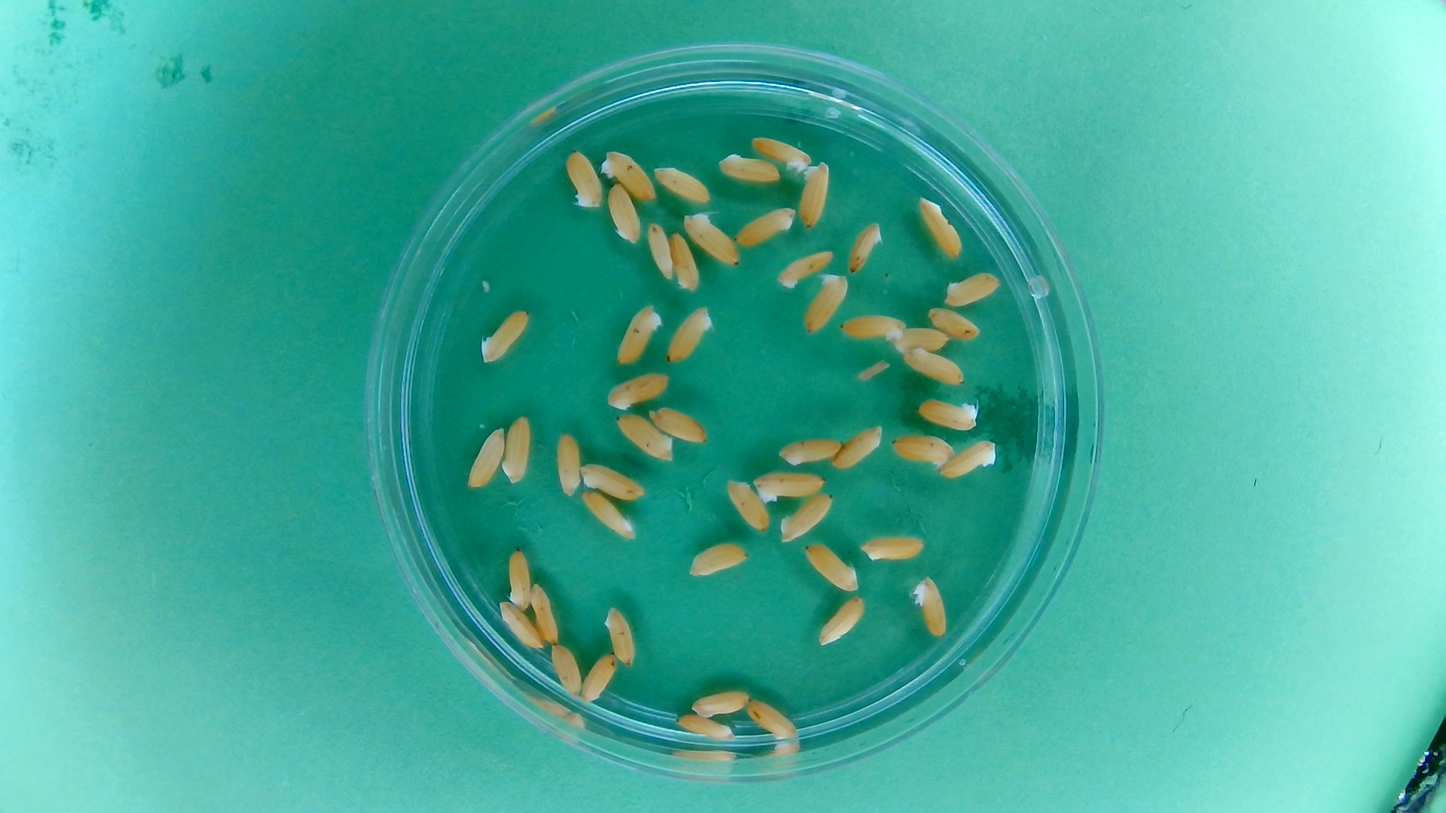no: (682, 209, 743, 269), (612, 410, 676, 465), (613, 300, 664, 369), (599, 147, 659, 203), (915, 195, 965, 262), (664, 303, 715, 367), (478, 306, 532, 366), (802, 539, 860, 594), (731, 204, 798, 251), (801, 270, 848, 335), (578, 488, 636, 540), (778, 492, 836, 544), (602, 370, 673, 412), (577, 460, 648, 502), (773, 246, 836, 292), (898, 346, 967, 388), (647, 402, 712, 446), (751, 468, 828, 504), (829, 422, 885, 471), (937, 438, 1000, 481), (464, 424, 505, 490), (651, 163, 712, 207), (724, 476, 770, 534), (818, 595, 868, 648), (603, 181, 643, 247), (686, 539, 750, 580), (496, 600, 547, 651), (911, 573, 950, 639), (914, 395, 981, 433), (563, 146, 602, 211), (941, 269, 1004, 309), (796, 160, 831, 231), (499, 412, 533, 485), (889, 431, 956, 468), (745, 696, 800, 741), (774, 434, 845, 468), (856, 532, 929, 565), (750, 133, 813, 171), (602, 603, 638, 669), (714, 151, 782, 185), (666, 227, 701, 293), (844, 219, 884, 276), (923, 305, 983, 342), (579, 650, 619, 705), (552, 428, 583, 498), (547, 641, 584, 699), (644, 218, 677, 283), (528, 582, 561, 647), (688, 687, 751, 719), (505, 547, 534, 613), (674, 711, 735, 741), (889, 326, 952, 355), (842, 315, 905, 341)
